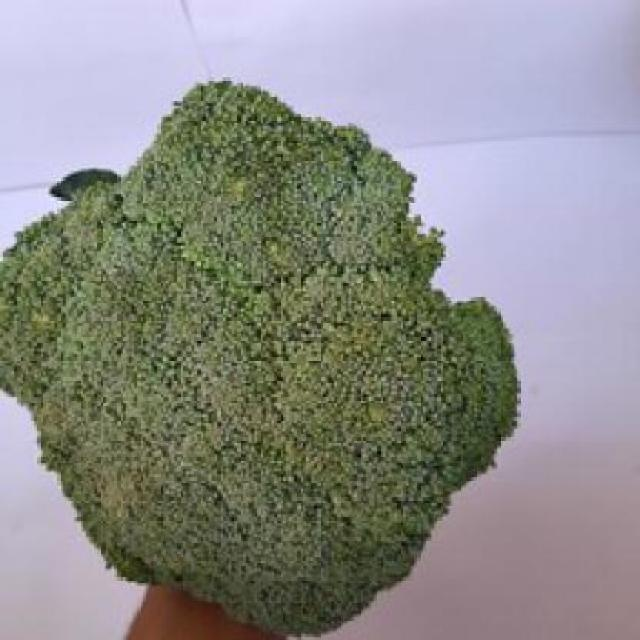broccoli: (8, 81, 524, 621)
